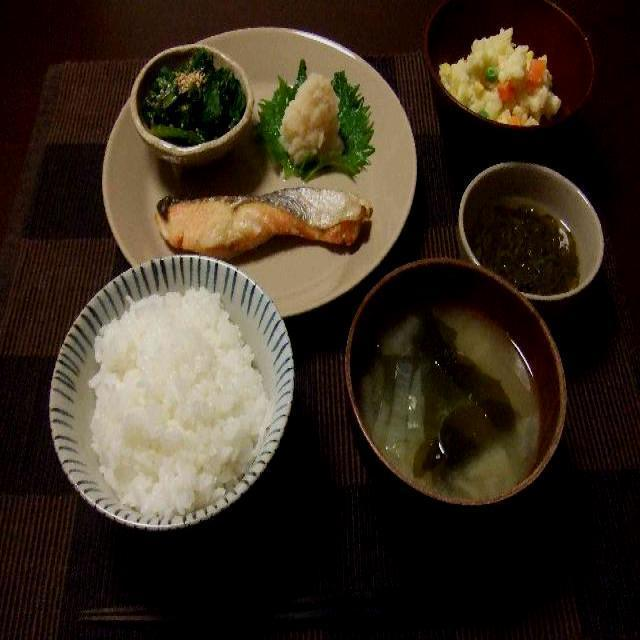grilled-salmon: (121, 174, 384, 258)
